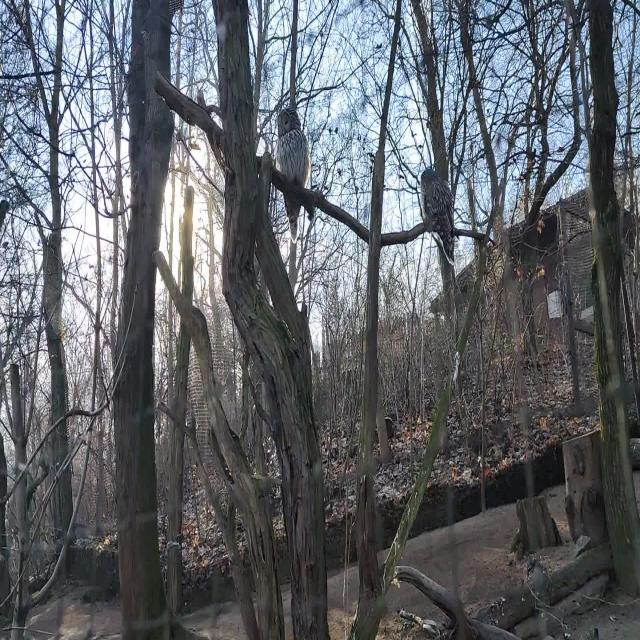bird: (277, 106, 311, 245), (421, 168, 455, 266)
